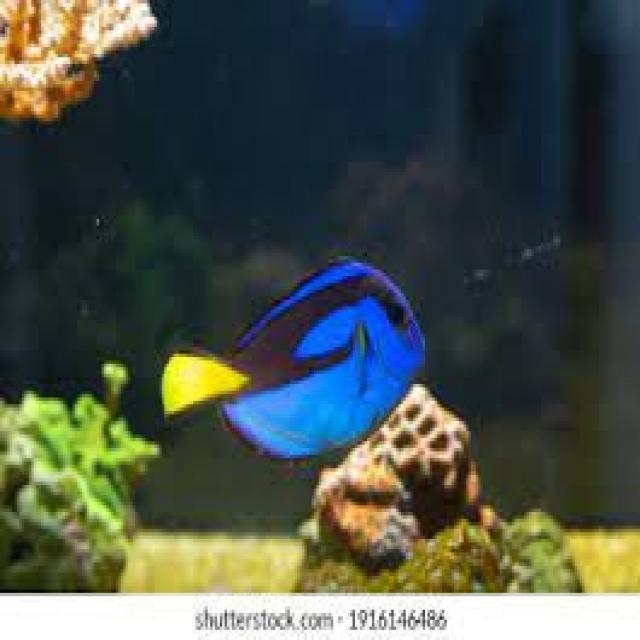BlueTang: (148, 234, 447, 482)
